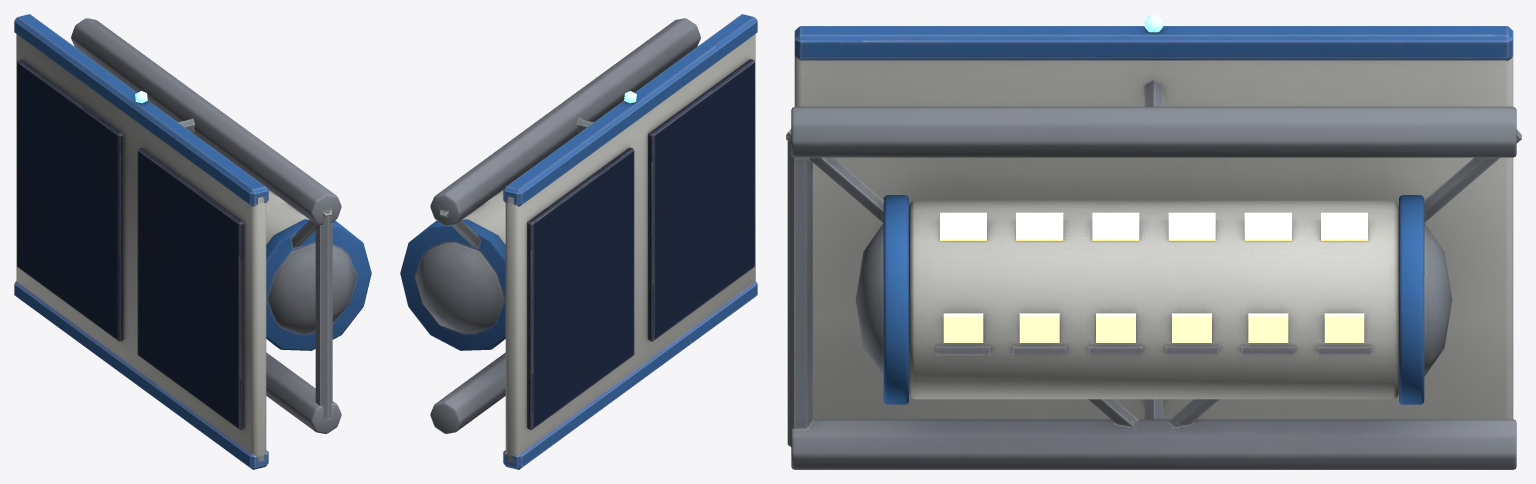
Rendered from ring_module.glb.
3 renders of one model, left to right at view 1: azimuth 30°, elevation 25°; view 2: azimuth 150°, elevation 25°; view 3: azimuth 270°, elevation 25°, orthographic. The views are drawn at different scales.
Visible parts, largest first — view 1: ring_module; view 2: ring_module; view 3: ring_module, ring_module_glow.
Part boxes in pixels (box(x1,y1,x2,y2)): ring_module: box(14, 14, 371, 469); ring_module: box(400, 14, 757, 469); ring_module: box(786, 26, 1521, 469); ring_module_glow: box(940, 14, 1367, 342).
Size of the model in its own units: 1.48 by 2.66 by 4.06.
Materials: 3 (1 with a texture image).
